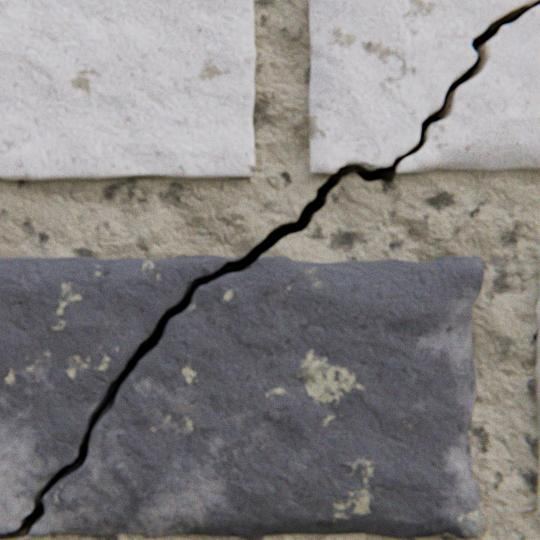brick: (0, 0, 255, 180), (534, 249, 539, 523)
broken_brick: (27, 256, 483, 537), (0, 255, 242, 532), (309, 0, 537, 173), (395, 6, 539, 173)
crack: (0, 0, 539, 539)
